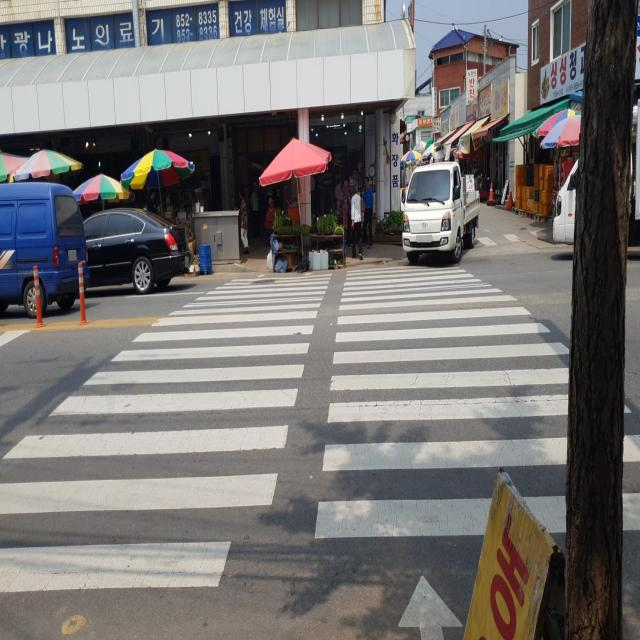횡단보도: (0, 260, 637, 636), (477, 221, 567, 247)
